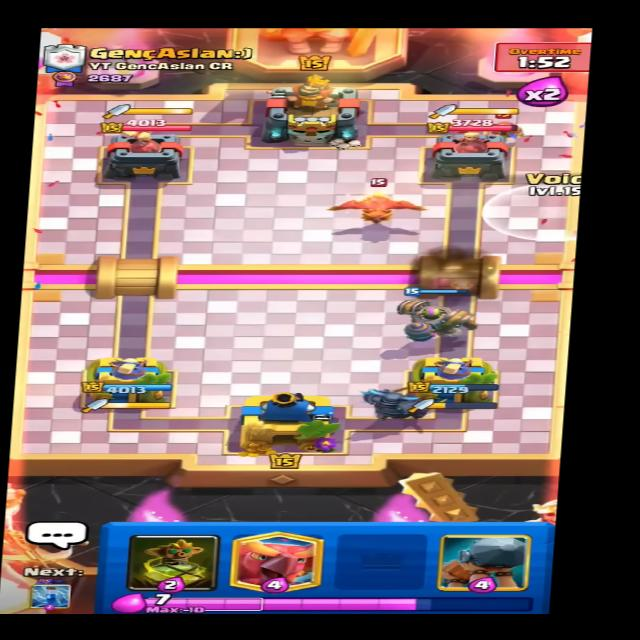Pheonix: (322, 176, 436, 226)
Wizard: (486, 108, 538, 138)
